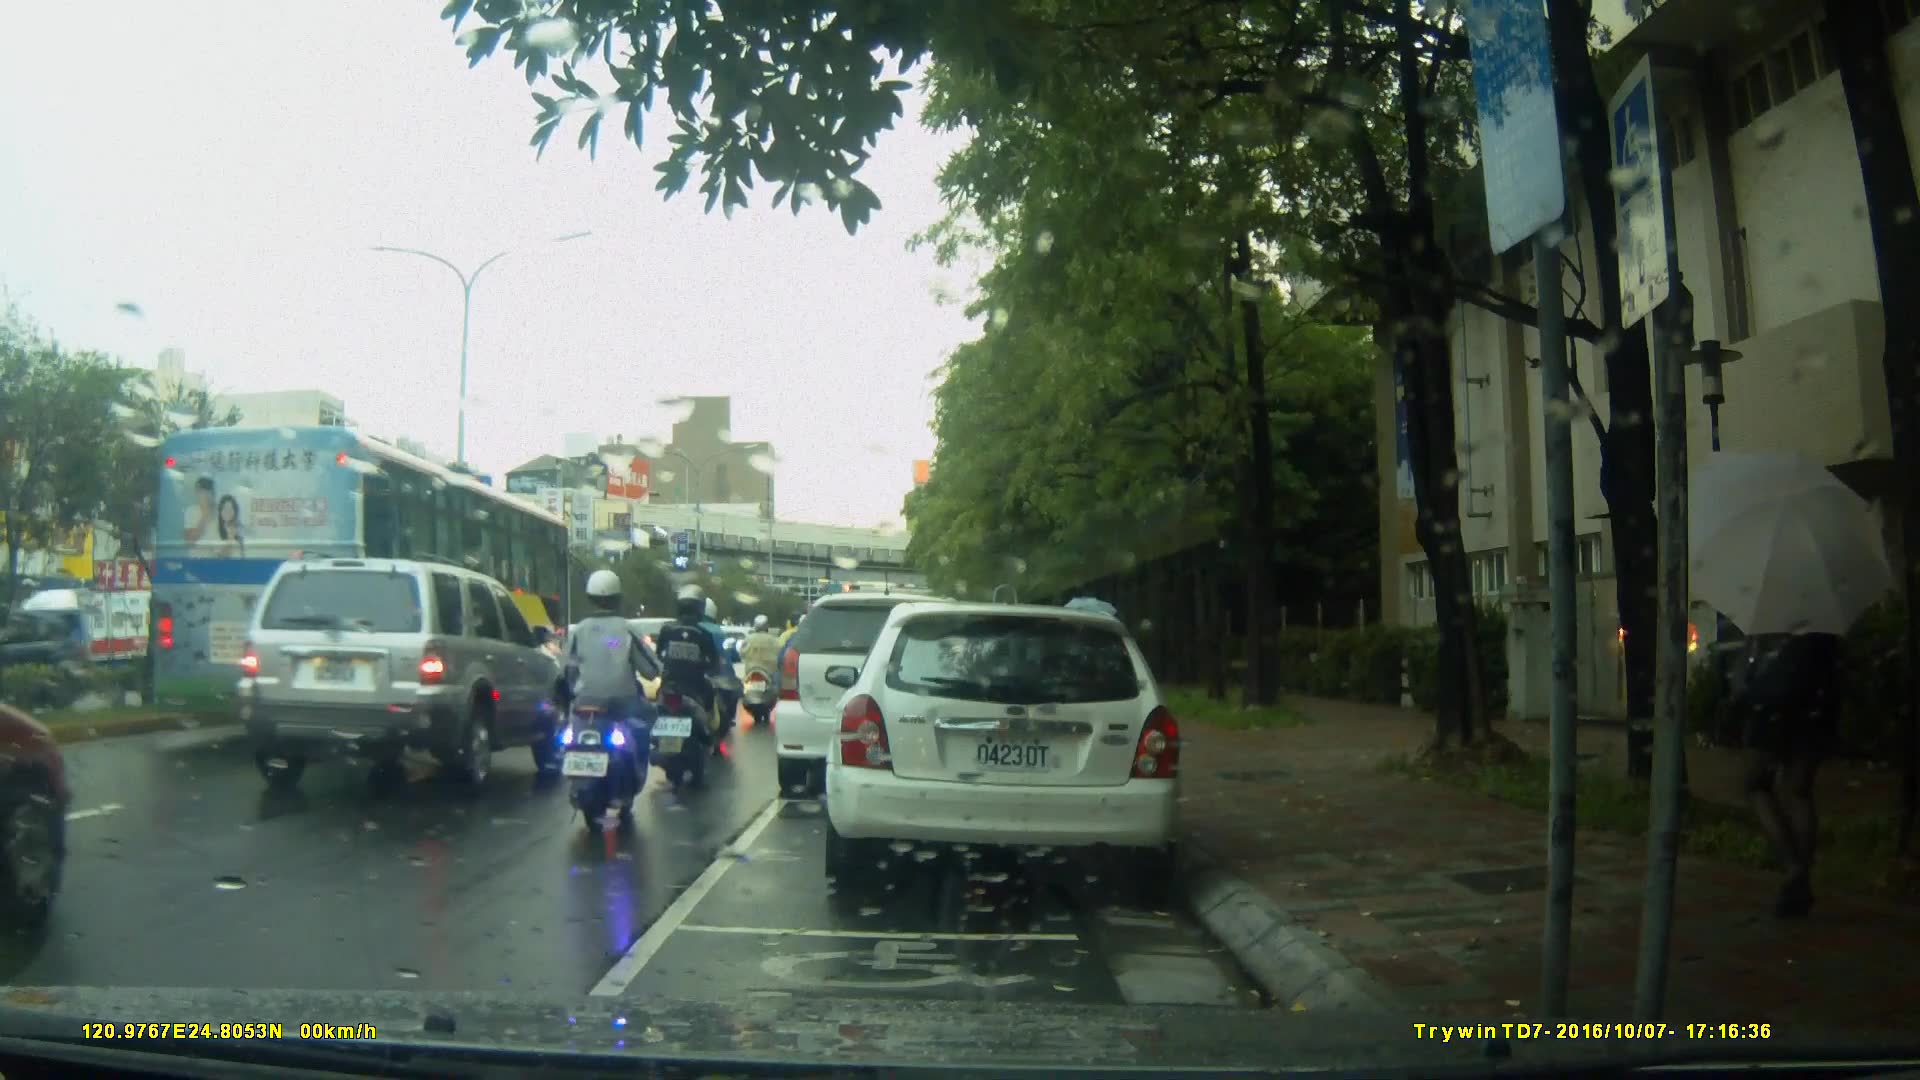pedestrian: (1722, 515, 1860, 927)
rider: (559, 567, 658, 826), (646, 582, 725, 795), (684, 596, 750, 743), (745, 610, 788, 730)
vehicle: (143, 422, 578, 741), (835, 594, 1194, 898), (232, 555, 574, 795), (776, 590, 1026, 784), (1, 611, 103, 716)
